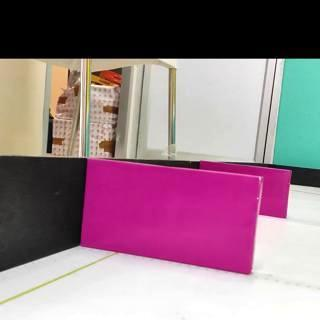xparking: (81, 158, 260, 275), (260, 167, 291, 218)
